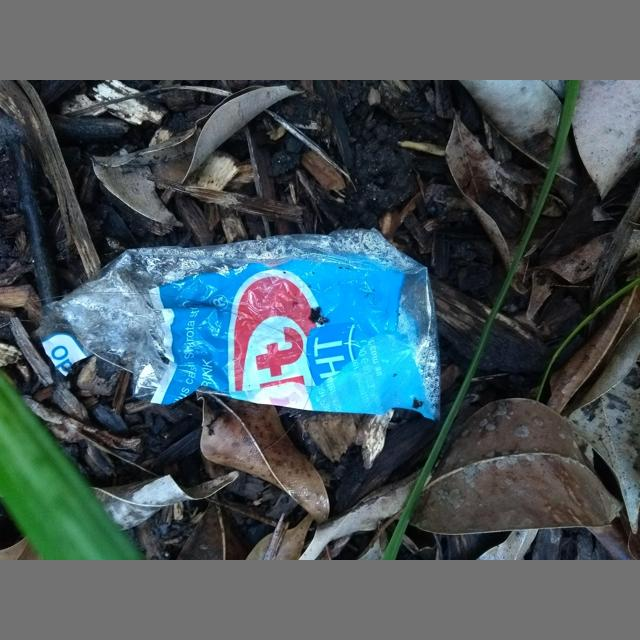litter: (39, 227, 441, 422)
